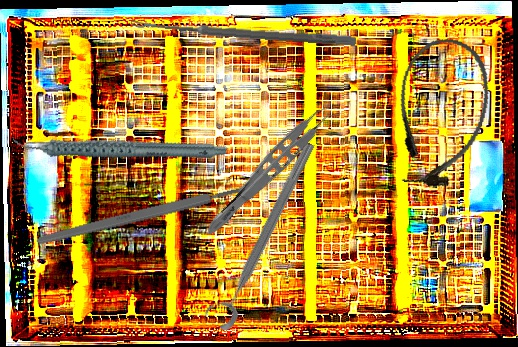Cannula: (380, 30, 501, 196)
Fixation Ring: (200, 133, 320, 334)
Handpiece: (11, 90, 228, 201)
Scalpel Handle: (34, 182, 249, 248)
Surgical Spoon: (130, 19, 357, 46)
Tissue Forceps: (200, 94, 344, 248)
